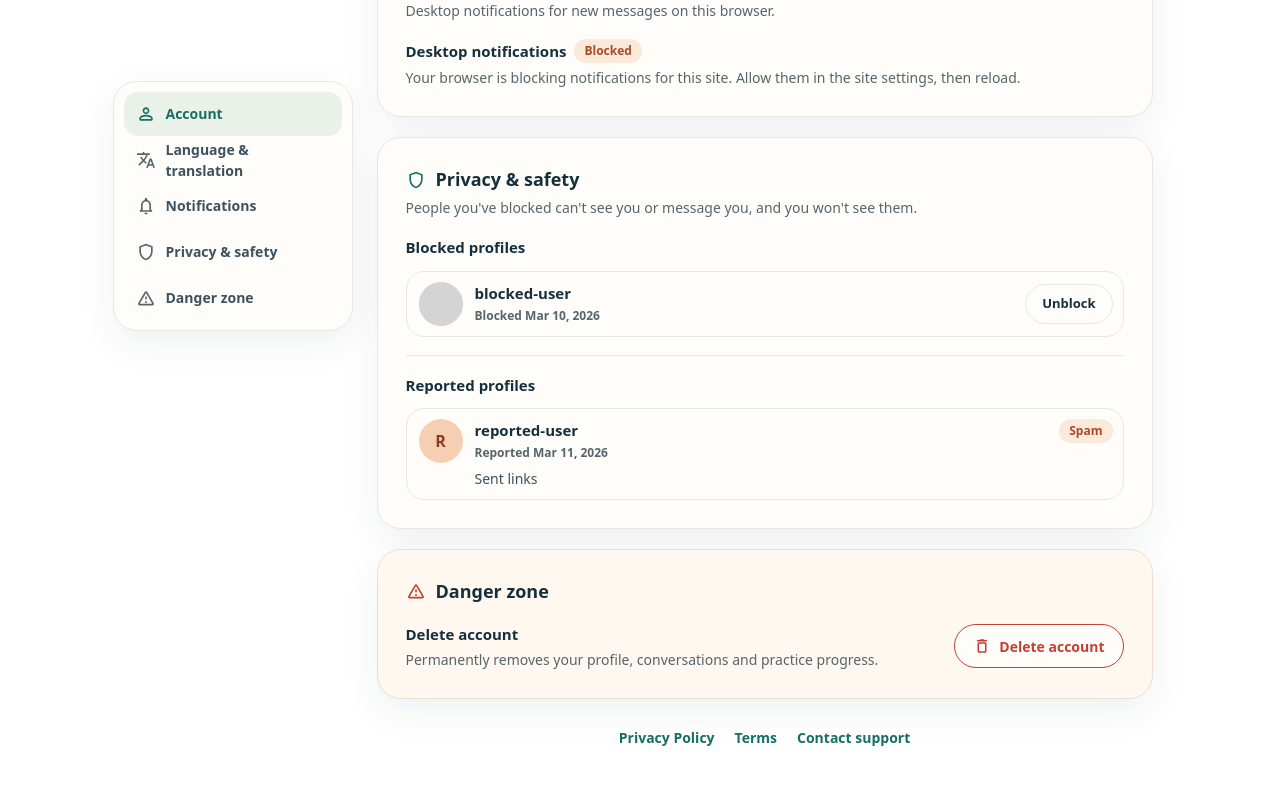
Test: SettingsPage › delete account shows a wrong password inside the dialog and stays signed in
(page scrolled)
Click the button "Delete account" at (1039, 646), box [954,624,1124,668]
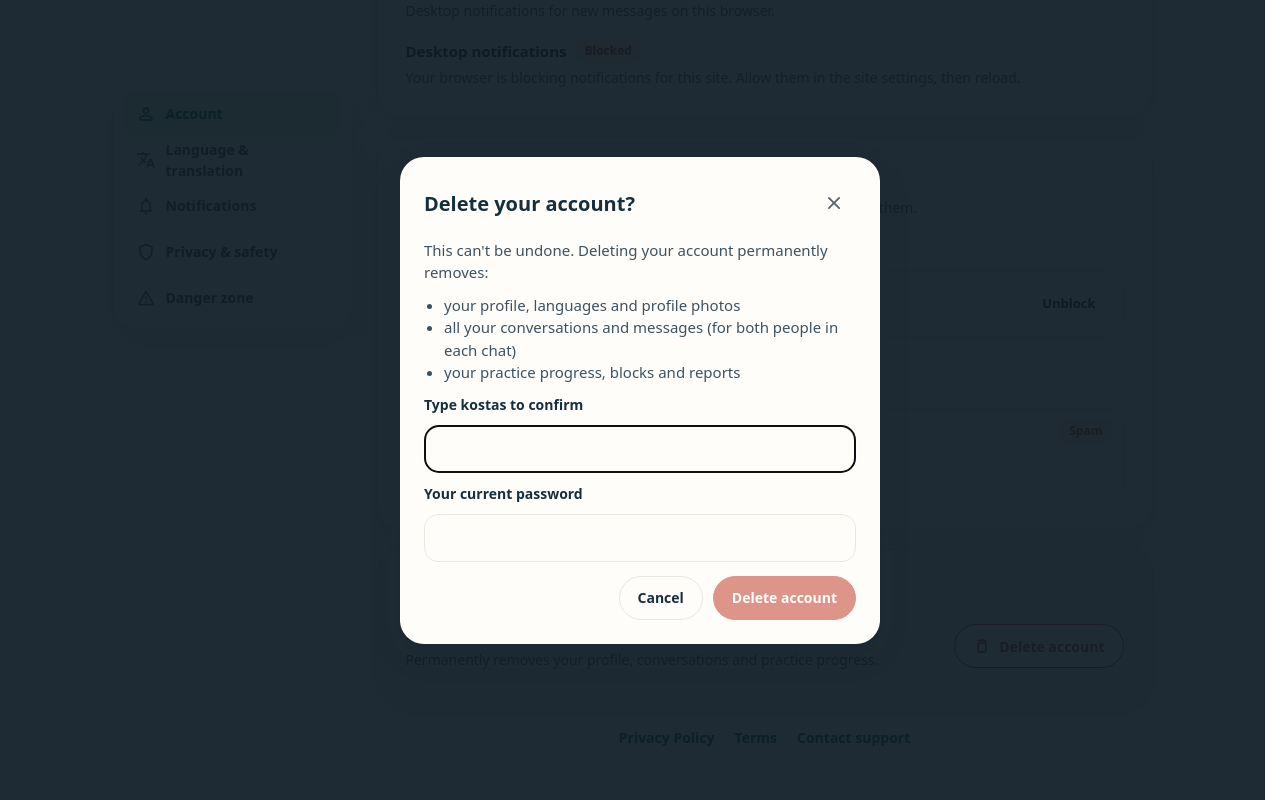
Type "kostas" into the field labelled "Type kostas to confirm" at (640, 448), box [424,424,856,472]
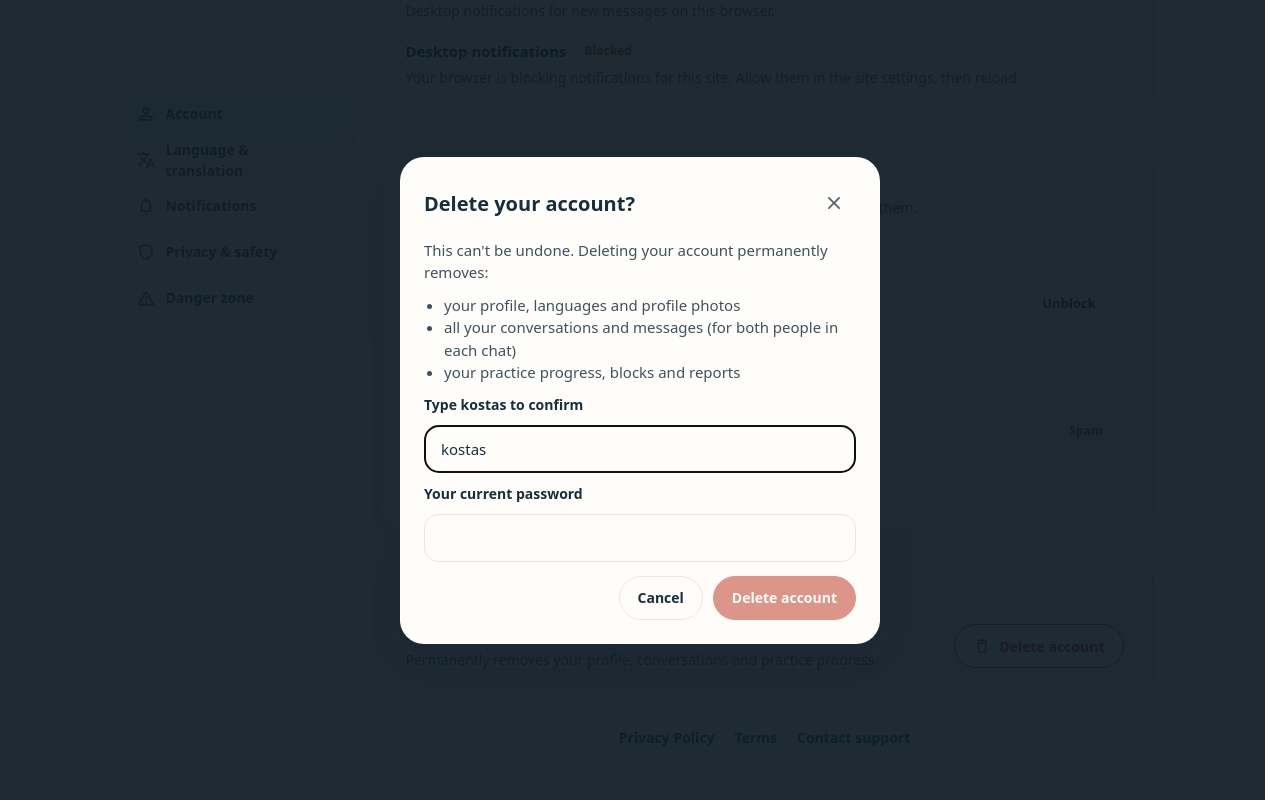
Type "wrong" into the password field labelled "Your current password" at (640, 538), box [424,514,856,562]
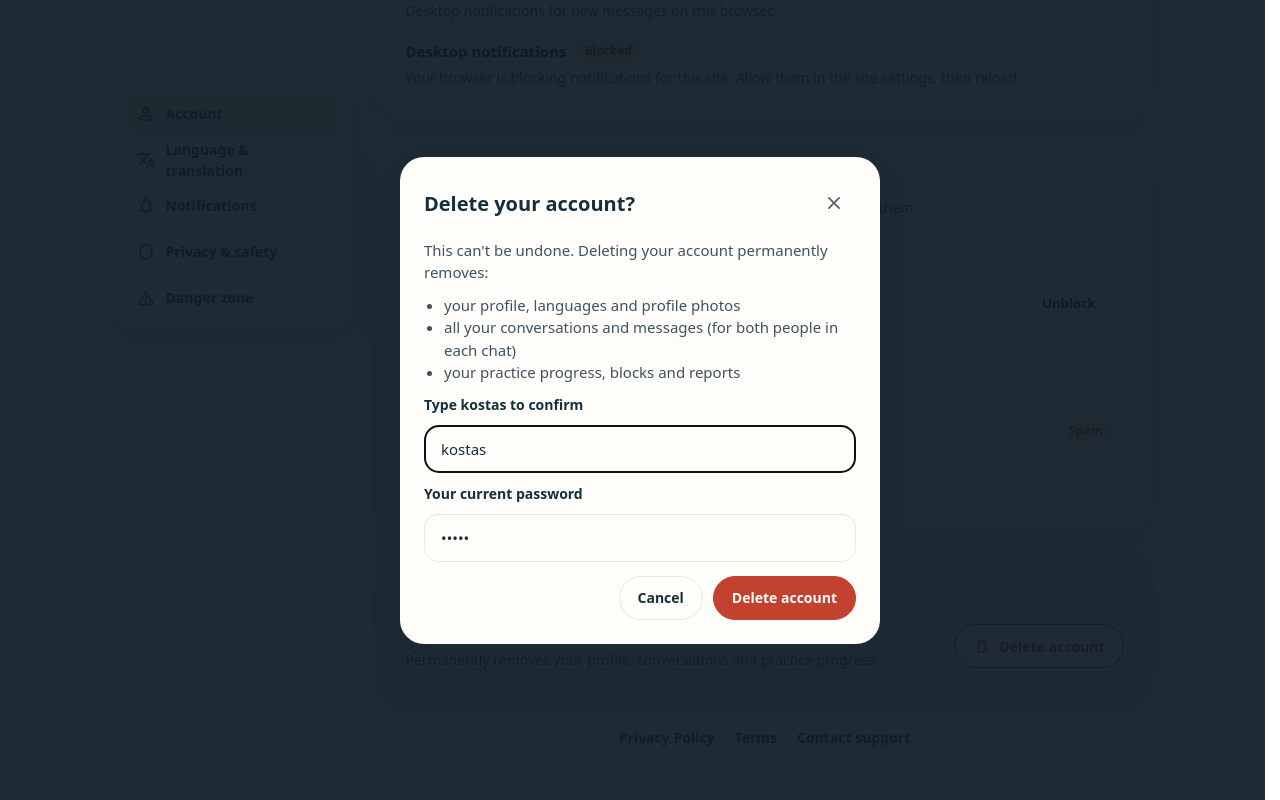
Click the button "Delete account" at (784, 598), box [713,576,856,620]
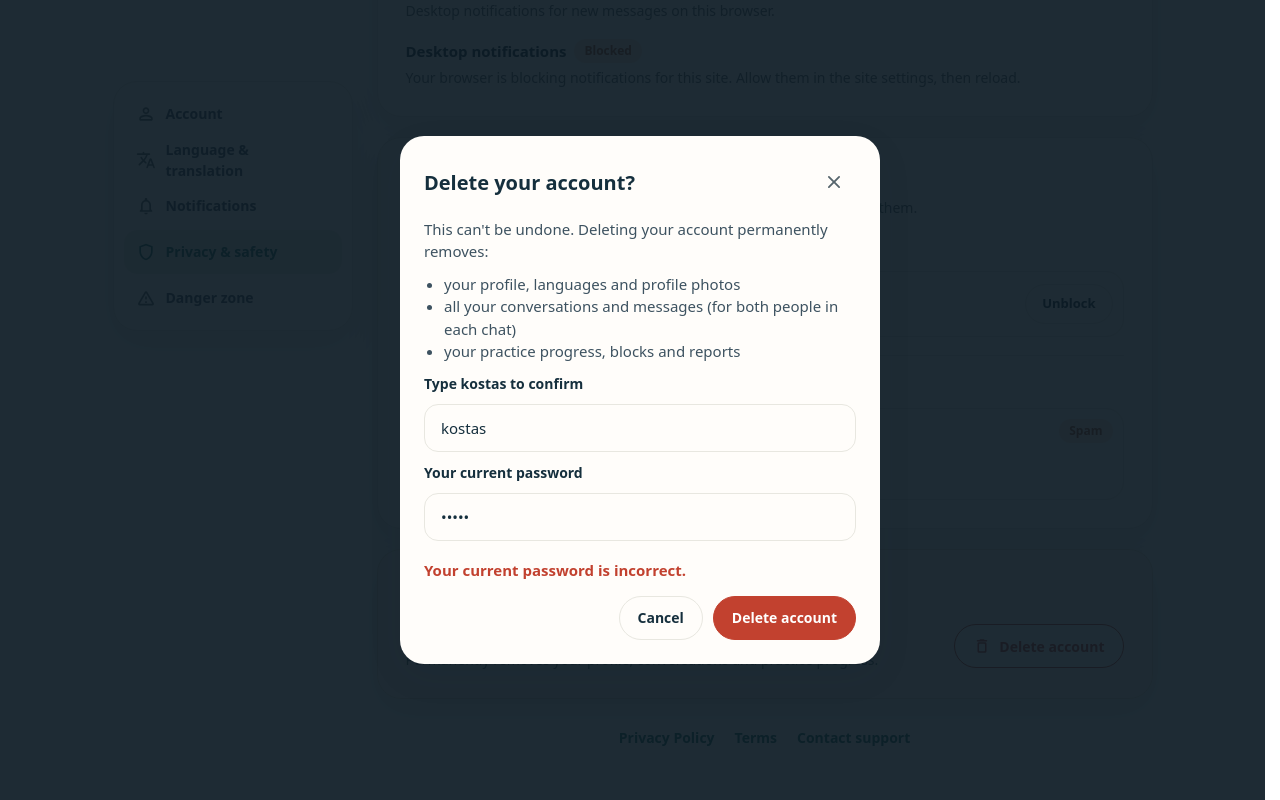
Check: the dialog "Delete your account?" is shown, box [400,136,880,664]
Check: the message reads "Your current password is incorrect.", box [424,560,686,580]
